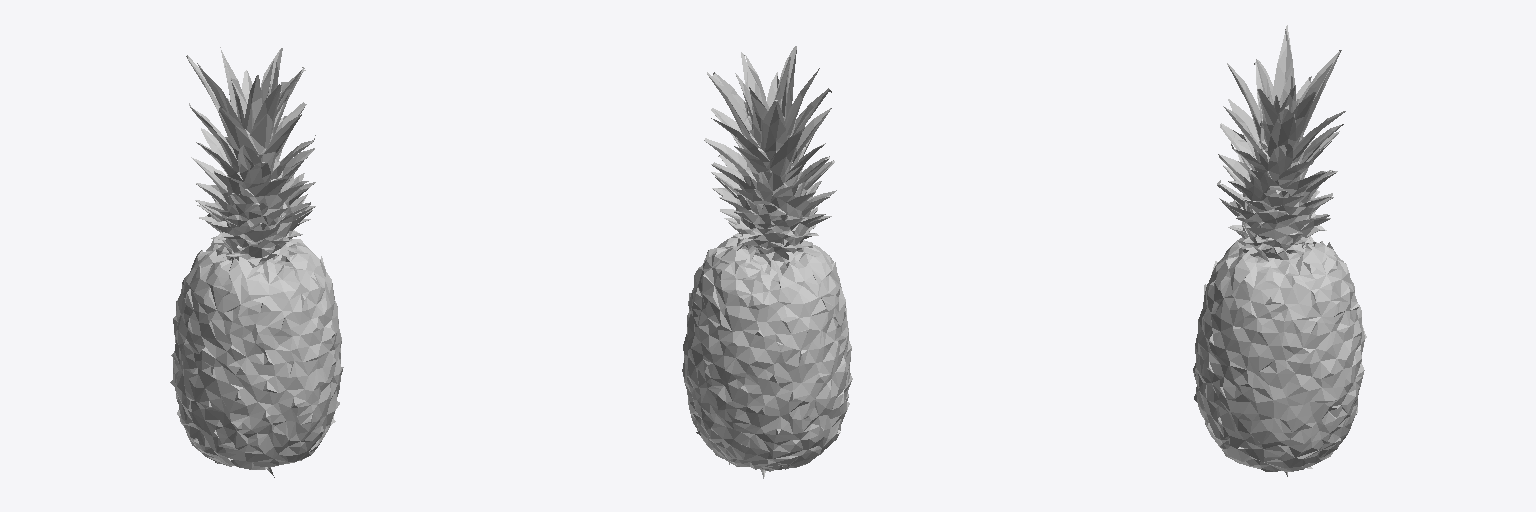
Rendered from pineapple.obj.
The picture shows the model from 3 angles: view 1: azimuth 30°, elevation 25°; view 2: azimuth 150°, elevation 25°; view 3: azimuth 270°, elevation 25°; orthographic projection.
Visible parts, largest first — view 1: pineapple_low_painter; view 2: pineapple_low_painter; view 3: pineapple_low_painter.
Boxes of the visible parts, x1,y1,x2,y2 form: pineapple_low_painter: [170, 47, 343, 477]; pineapple_low_painter: [682, 46, 852, 478]; pineapple_low_painter: [1193, 25, 1366, 476].
Bounding box in the file's own units: 11.94 × 32.35 × 12.46.